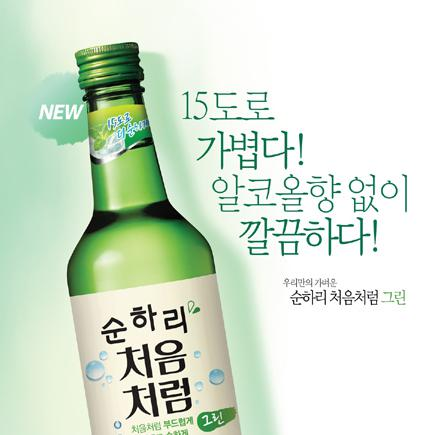soju: (58, 40, 248, 435)
